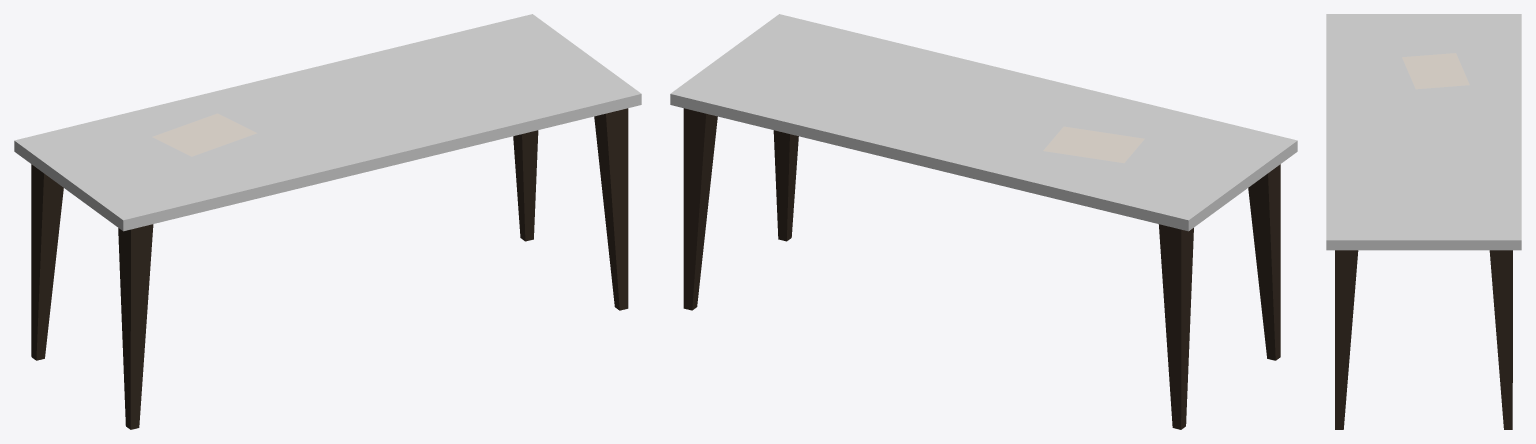
File: table1.glb
3 views of the same model, side by side, from view 1: azimuth 30°, elevation 25°; view 2: azimuth 150°, elevation 25°; view 3: azimuth 270°, elevation 25° (orthographic). The views are drawn at different scales.
Visible parts, largest first — view 1: Cube.002; view 2: Cube.002; view 3: Cube.002.
Boxes of the visible parts, bbox=[...] form: Cube.002: bbox=[14, 14, 641, 429]; Cube.002: bbox=[670, 14, 1297, 429]; Cube.002: bbox=[1326, 14, 1521, 429].
Size of the model in its own units: 2.54 by 1.04 by 0.9254.
